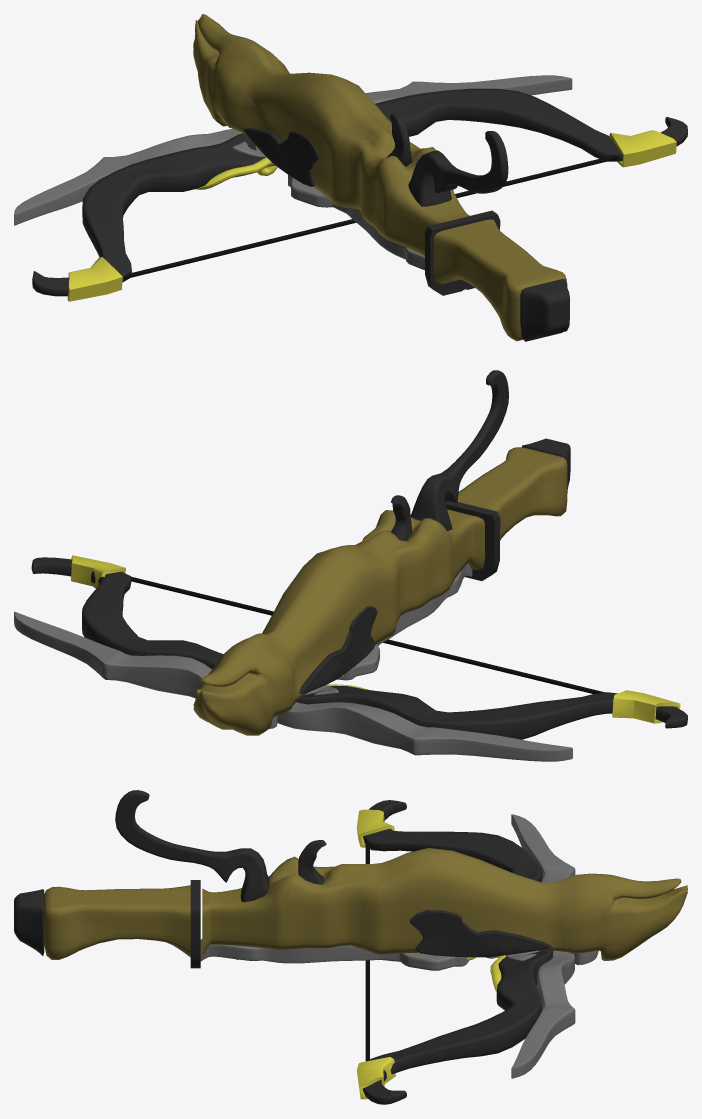
Rendered from crossbowHIGH.fbx.
3 renders of one model, top to bottom at view 1: azimuth 30°, elevation 25°; view 2: azimuth 150°, elevation 25°; view 3: azimuth 270°, elevation 25°, orthographic. The views are drawn at different scales.
Parts seen in each view (by area): view 1: polySurface484, pCylinder1; view 2: polySurface484, pCylinder1; view 3: polySurface484, pCylinder1.
Boxes of the visible parts, box(x1,y1,x2,y2) form: polySurface484: box(14, 14, 687, 341); pCylinder1: box(123, 155, 619, 279); polySurface484: box(14, 370, 687, 761); pCylinder1: box(131, 577, 604, 693); polySurface484: box(14, 790, 687, 1104); pCylinder1: box(365, 841, 369, 1061).
Bounding box in the file's own units: 23.29 × 6.5 × 22.34.
